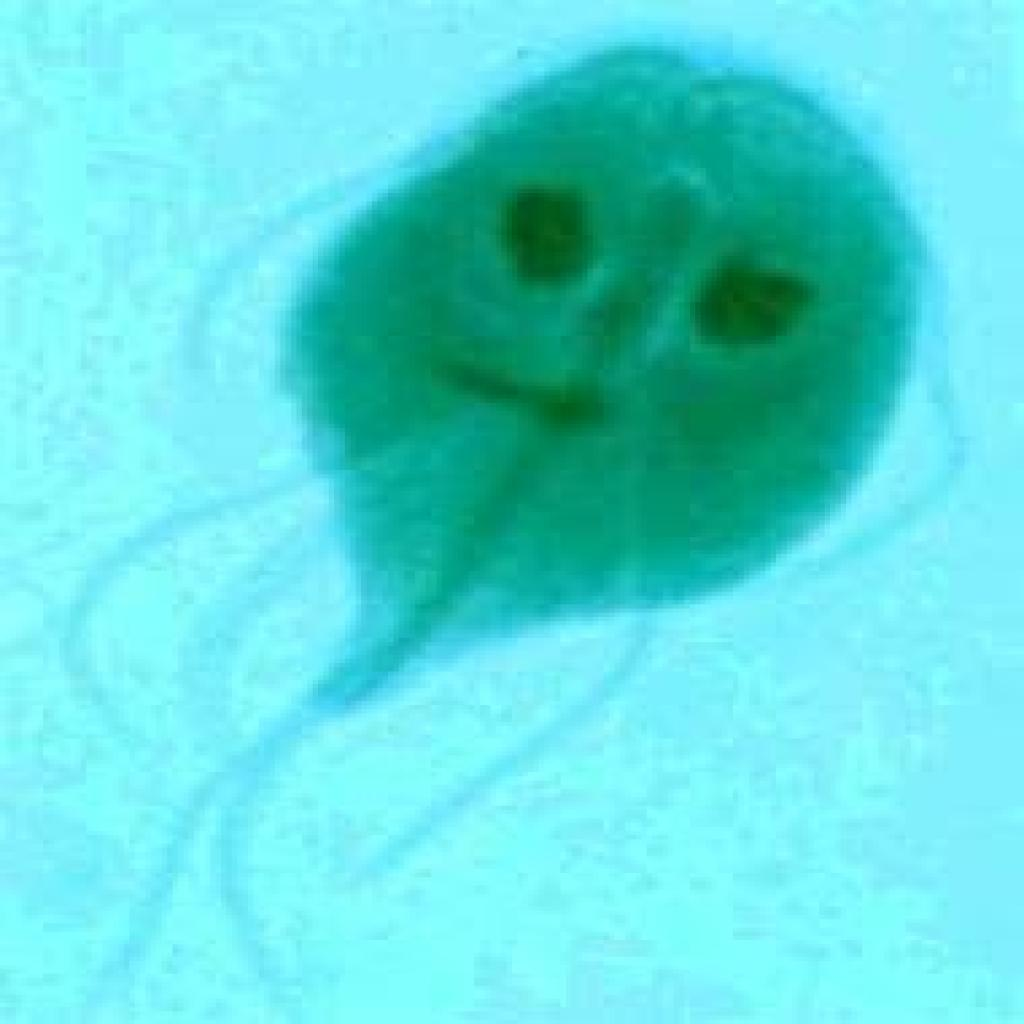Giardia: (183, 30, 938, 802)
